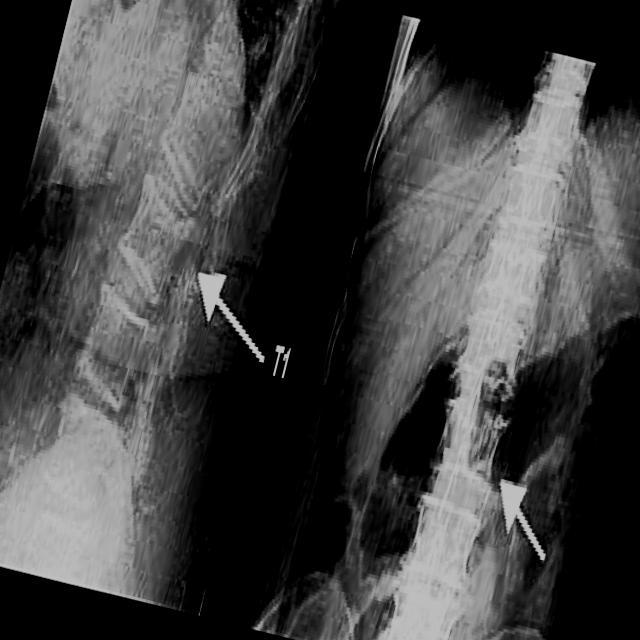Compression-Crush Fracutre: (122, 226, 188, 299)
